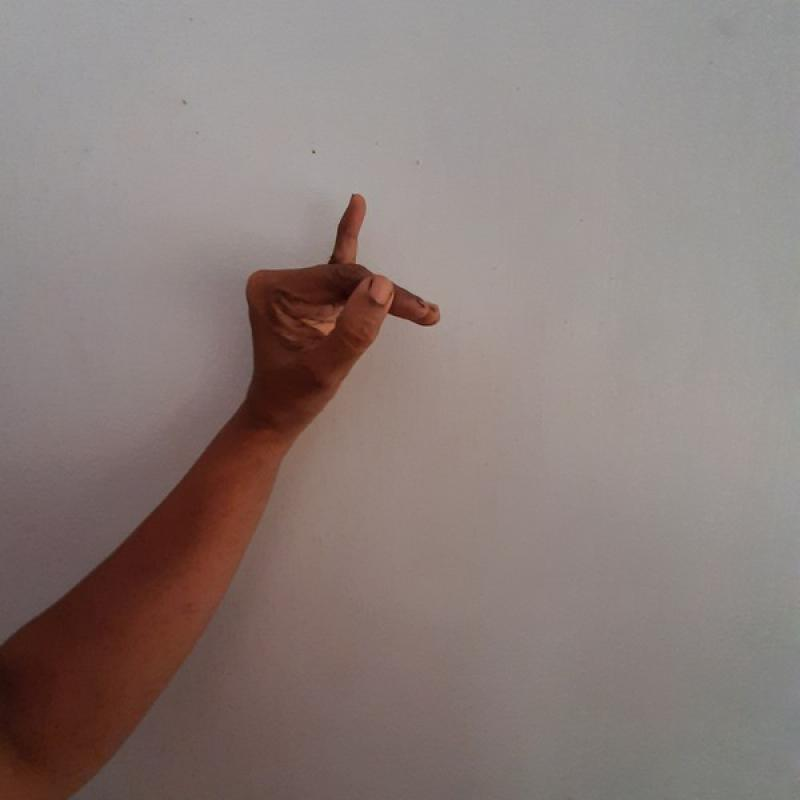Kartharee Mukham: (231, 189, 463, 430)
